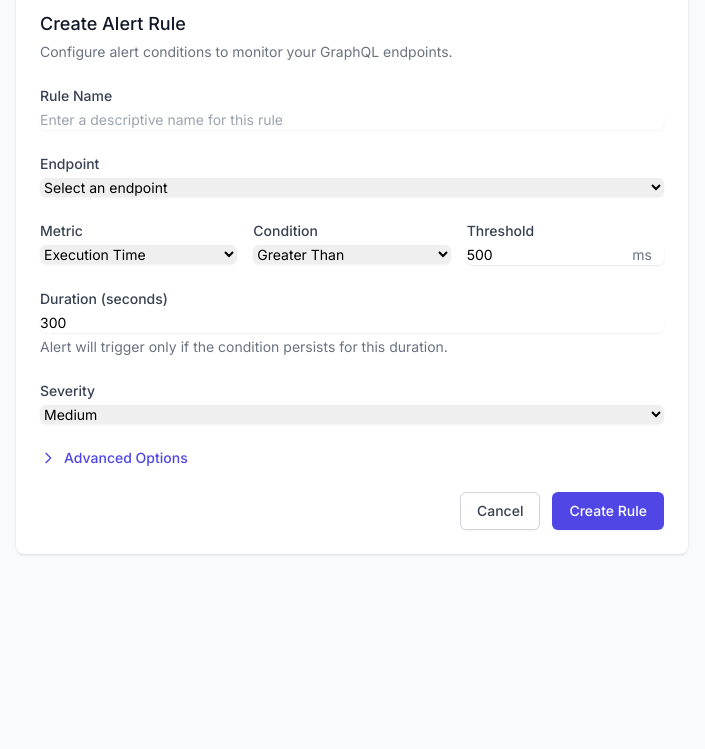
it: AlertRuleForm › Advanced Configuration › should show advanced options when toggled
Click the button with test id "show-advanced-toggle" at {"x": 114, "y": 458}, box [40,448,188,468]
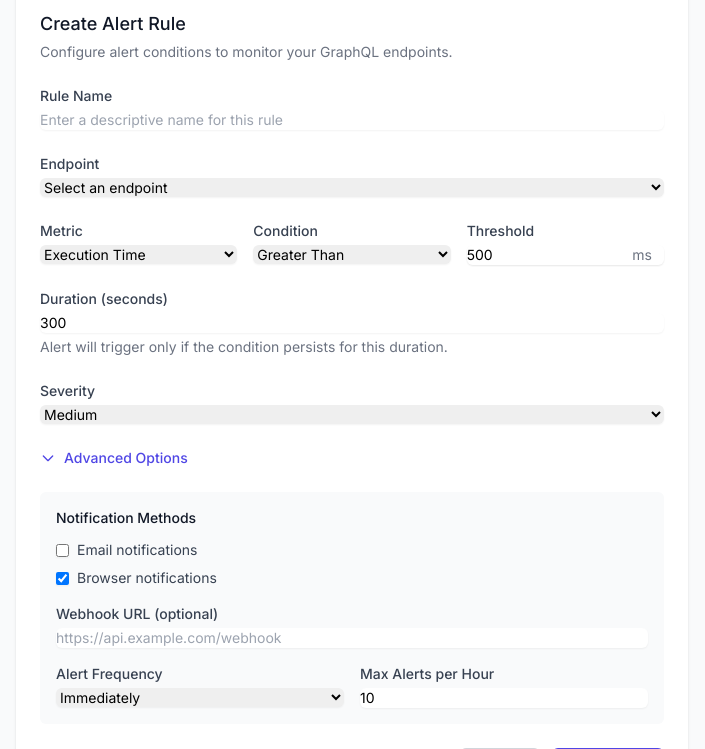
Expected: the element with test id "advanced-options" is shown, [40,492,664,724]
